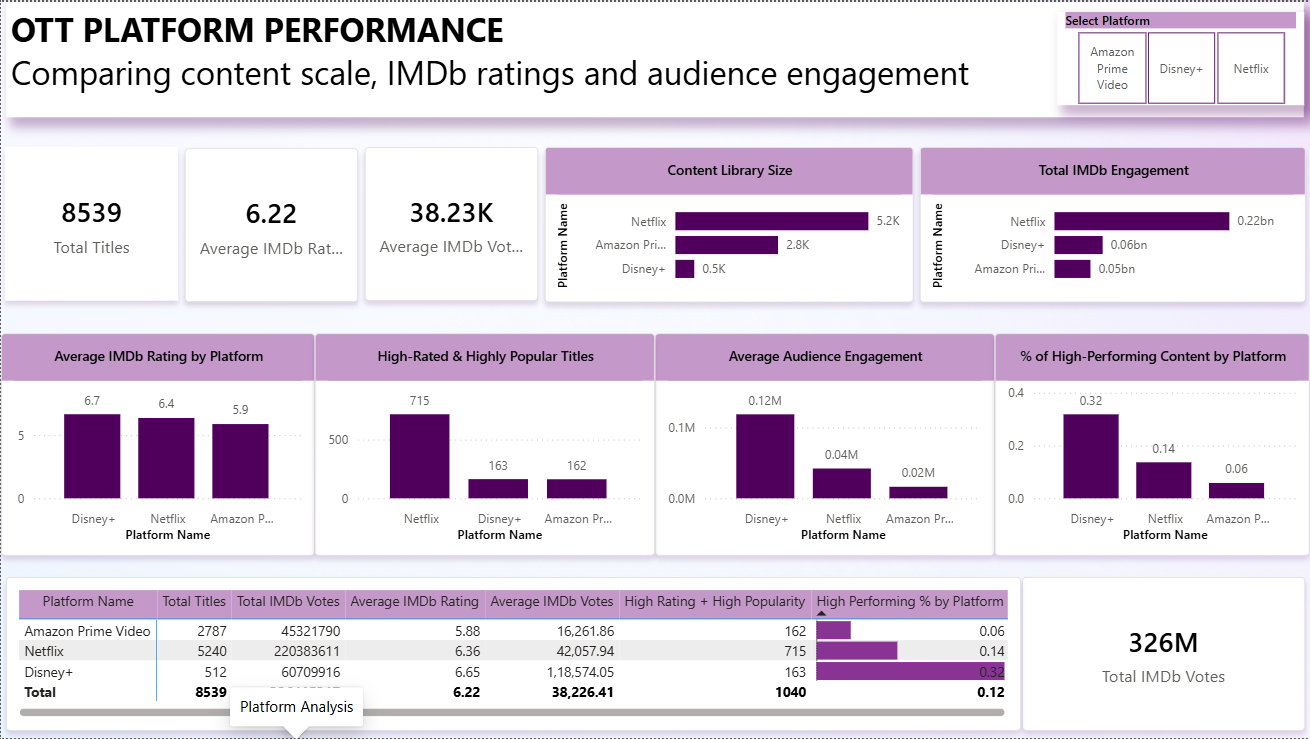

Layout of this report page (visuals, bound fields, positions):
{"tool":"powerbi","page":{"name":"Platform Analysis","canvas":[1280,720],"ordinal":1},"visuals":[{"type":"textbox","box":[4.9,0,1269.3,112.5],"z":0},{"type":"card","title":"Titles","fields":{"Values":["ott_movie_analysis titles.Total Titles"]},"box":[3.7,141.8,170,150.4],"z":1000},{"type":"card","fields":{"Values":["ott_movie_analysis titles.Average IMDb Rating"]},"box":[179.8,143.1,170,150.4],"z":2000},{"type":"card","fields":{"Values":["ott_movie_analysis titles.Average IMDb Votes"]},"box":[355.6,141.8,170,150.4],"z":3000},{"type":"card","fields":{"Values":["ott_movie_analysis titles.Total IMDb Votes"]},"box":[998.6,562.9,277.1,150],"z":4000},{"type":"clusteredColumnChart","title":"Average IMDb Rating by Platform","fields":{"Category":["ott_movie_analysis platforms.platform_name"],"Y":["ott_movie_analysis titles.Average IMDb Rating"]},"box":[0,324.1,306.9,217.7],"z":5000},{"type":"clusteredBarChart","title":"Content Library Size","fields":{"Category":["ott_movie_analysis platforms.platform_name"],"Y":["ott_movie_analysis titles.Total Titles"]},"box":[531.9,141.8,360.7,151.6],"z":6000},{"type":"clusteredColumnChart","title":"Average Audience Engagement","fields":{"Category":["ott_movie_analysis platforms.platform_name"],"Y":["ott_movie_analysis titles.Average IMDb Votes"]},"box":[639.5,324.1,332.6,217.7],"z":7000},{"type":"clusteredBarChart","title":"Total IMDb Engagement","fields":{"Category":["ott_movie_analysis platforms.platform_name"],"Y":["ott_movie_analysis titles.Total IMDb Votes"]},"box":[898.8,141.8,377.9,151.6],"z":8000},{"type":"clusteredColumnChart","title":"High-Rated & Highly Popular Titles","fields":{"Category":["ott_movie_analysis platforms.platform_name"],"Y":["ott_movie_analysis titles.High Rating + High Popularity"]},"box":[306.9,324.1,332.6,217.7],"z":9000},{"type":"clusteredColumnChart","title":"% of High-Performing Content by Platform","fields":{"Category":["ott_movie_analysis platforms.platform_name"],"Y":["ott_movie_analysis titles.High Performing % by Platform"]},"box":[972.2,324.1,308.2,217.7],"z":10000},{"type":"pivotTable","fields":{"Rows":["ott_movie_analysis platforms.platform_name"],"Values":["ott_movie_analysis titles.Total Titles","ott_movie_analysis titles.Total IMDb Votes","ott_movie_analysis titles.Average IMDb Rating","ott_movie_analysis titles.Average IMDb Votes","ott_movie_analysis titles.High Rating + High Popularity","ott_movie_analysis titles.High Performing % by Platform"]},"box":[4.3,562.9,992.9,150],"z":11000},{"type":"slicer","fields":{"Values":["ott_movie_analysis platforms.platform_name"]},"box":[1032.9,10,241.4,91.4],"z":12000}]}

Visuals, with their boxes in screenshot pixels (x1, y1, x2, y2), scaled from the page's 1280x720 canvas onto the 1310x739 screenshot:
textbox: <box>5,0,1304,115</box>
"Titles" card: <box>4,146,178,300</box>
card - ott_movie_analysis titles.Average IMDb Rating: <box>184,147,358,301</box>
card - ott_movie_analysis titles.Average IMDb Votes: <box>364,146,538,300</box>
card - ott_movie_analysis titles.Total IMDb Votes: <box>1022,578,1306,732</box>
"Average IMDb Rating by Platform" clusteredColumnChart: <box>0,333,314,556</box>
"Content Library Size" clusteredBarChart: <box>544,146,914,301</box>
"Average Audience Engagement" clusteredColumnChart: <box>654,333,995,556</box>
"Total IMDb Engagement" clusteredBarChart: <box>920,146,1307,301</box>
"High-Rated & Highly Popular Titles" clusteredColumnChart: <box>314,333,654,556</box>
"% of High-Performing Content by Platform" clusteredColumnChart: <box>995,333,1309,556</box>
pivotTable - ott_movie_analysis platforms.platform_name x ott_movie_analysis titles.Total Titles: <box>4,578,1021,732</box>
slicer - ott_movie_analysis platforms.platform_name: <box>1057,10,1304,104</box>
